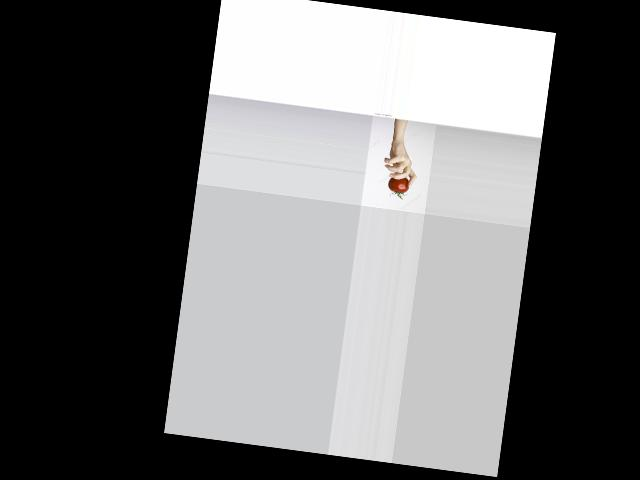tomato: (386, 176, 409, 200)
